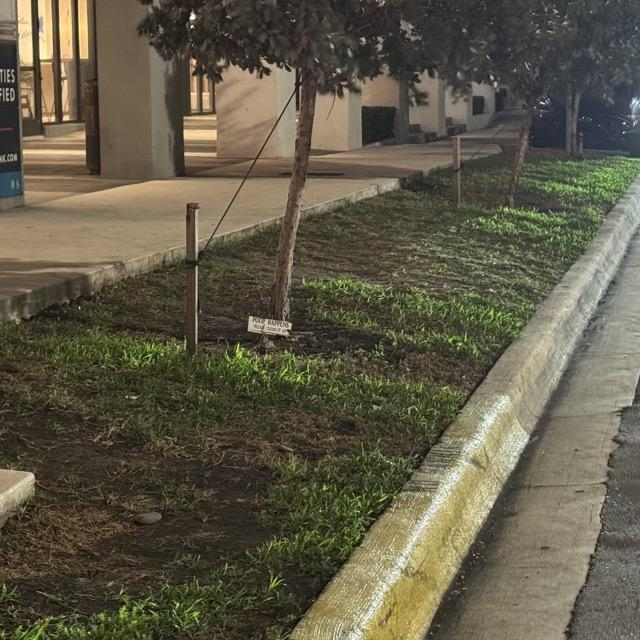curb: (291, 181, 639, 639), (0, 244, 187, 327), (302, 161, 452, 218), (199, 216, 285, 259)
